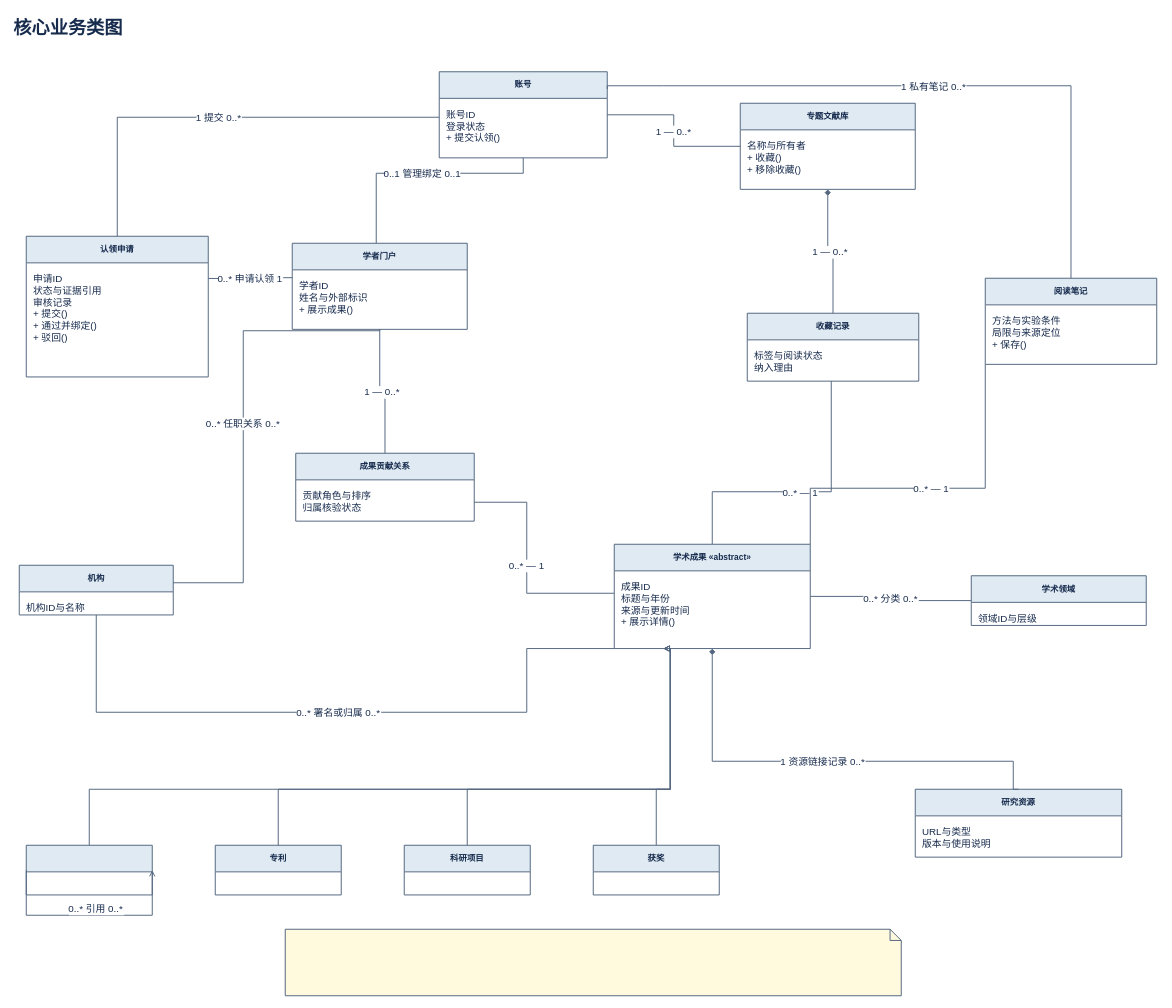
This 1172x1008 diagram has some shape labels left out. The shapes that lost their labels are listed below. From the top down, each one's centre as x and y in pixels, then its label:
the point at 88,869: 论文
the point at 592,962: 关系两端的数字表示多重性。 空心三角形指向父类，实心菱形位于组合关系的整体端。 平台保存资源链接记录，资源提供方管理外部资源。
